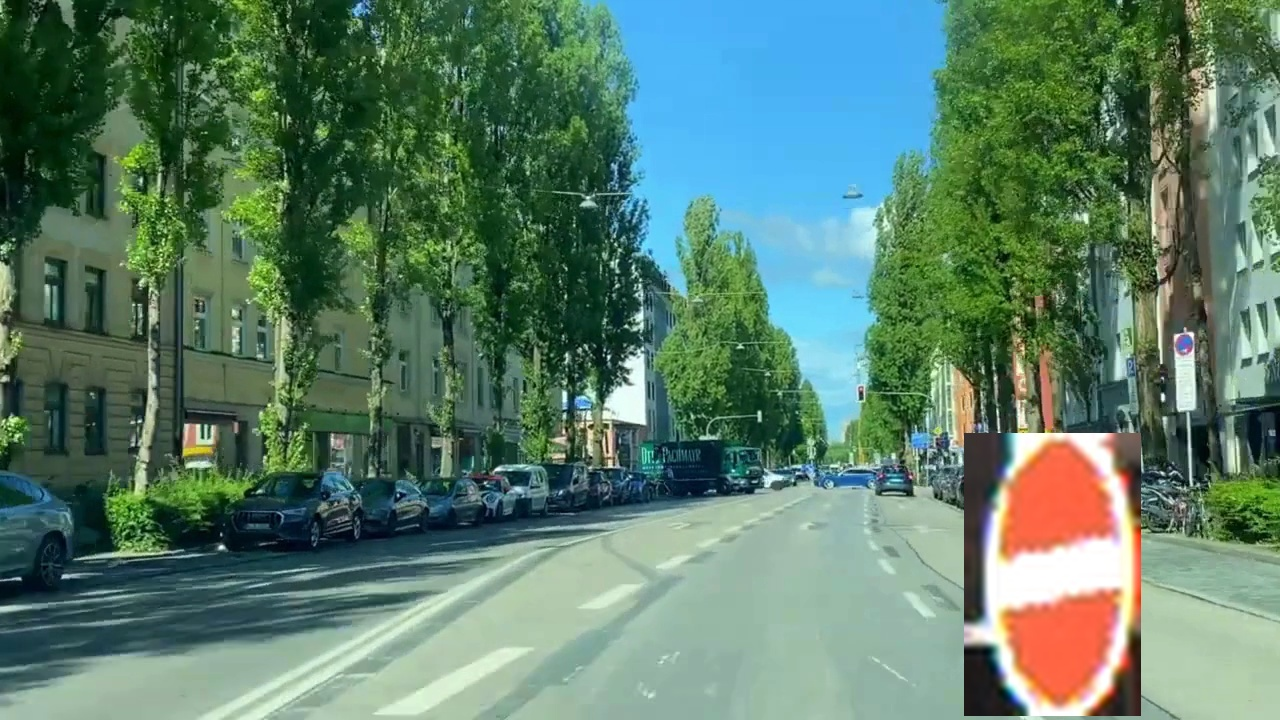No entry: (964, 433, 1141, 716)
